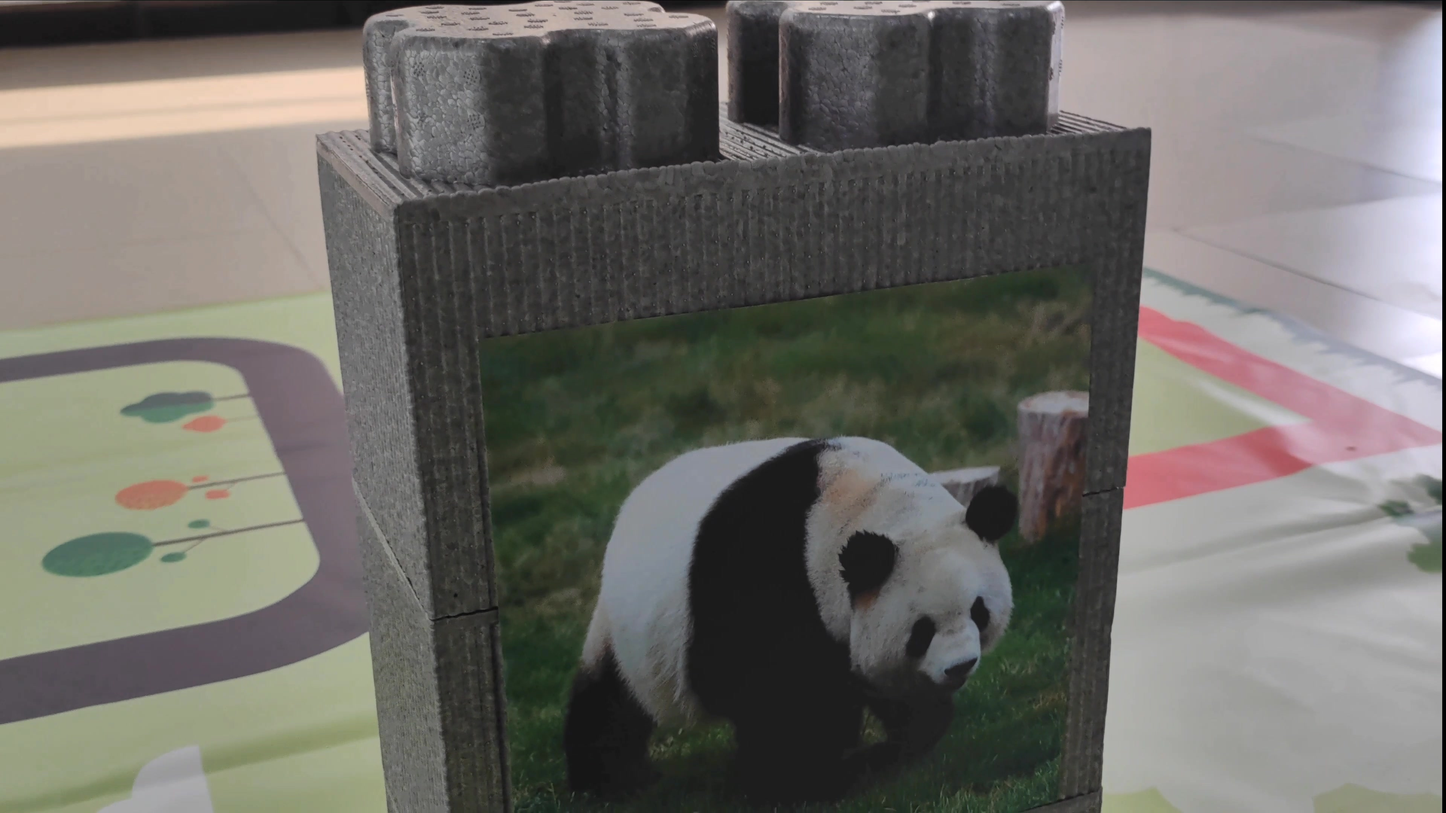panda: (525, 323, 1065, 795)
